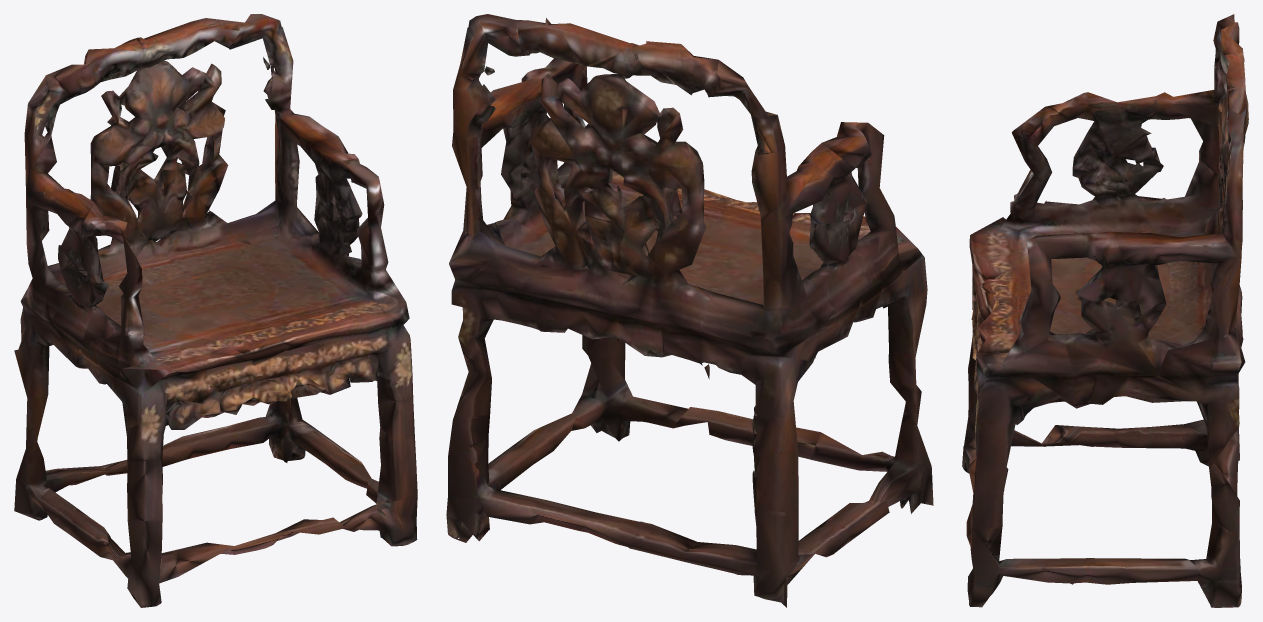
The model's file is pr_chair.glb.
3 views of the same model, side by side, from view 1: azimuth 30°, elevation 25°; view 2: azimuth 150°, elevation 25°; view 3: azimuth 270°, elevation 25° (orthographic). The views are drawn at different scales.
Bounding box in the file's own units: 1.34 × 1.99 × 1.07.
1 material, 1 textured.
